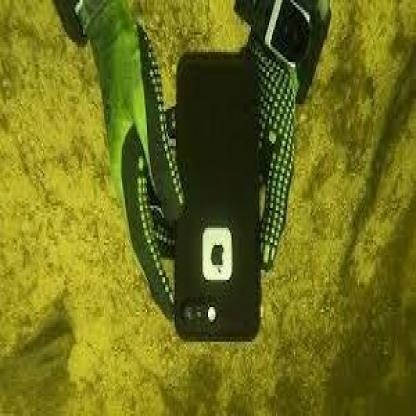cellphone: (176, 54, 259, 341)
